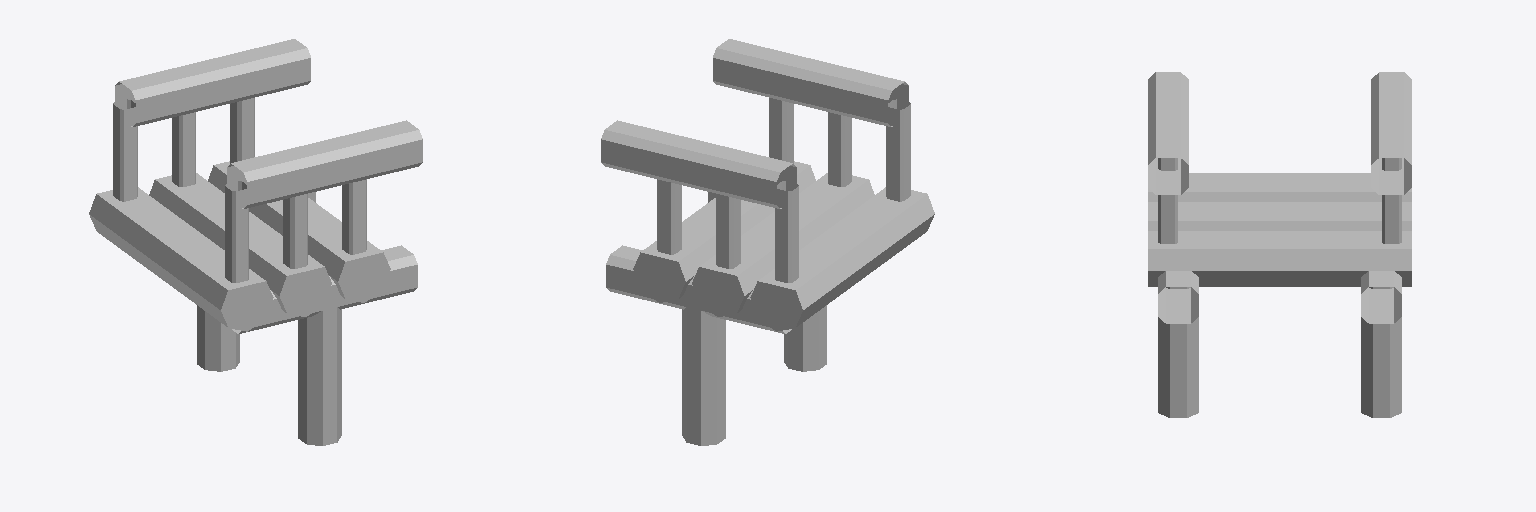
Rendered from Track_Bridge_Flat_Supported.obj.
3 renders of one model, left to right at view 1: azimuth 30°, elevation 25°; view 2: azimuth 150°, elevation 25°; view 3: azimuth 270°, elevation 25°, orthographic.
Visible parts, largest first — view 1: Bridge_Rail, Bridge_Rail_Support, Log_Plank_Top, Log_Plank_Bark, Bridge_Pier, Log_Plank_End, Bridge_Support_Beam; view 2: Bridge_Rail, Bridge_Rail_Support, Log_Plank_Top, Log_Plank_Bark, Bridge_Pier, Log_Plank_End, Bridge_Support_Beam; view 3: Log_Plank_Bark, Log_Plank_Top, Bridge_Rail, Bridge_Pier, Bridge_Support_Beam, Bridge_Rail_Support.
Boxes of the visible parts, <box> form: Bridge_Rail: <box>115,39,422,208</box>; Bridge_Rail_Support: <box>113,98,366,282</box>; Log_Plank_Top: <box>97,161,382,289</box>; Log_Plank_Bark: <box>89,165,344,326</box>; Bridge_Pier: <box>197,293,341,445</box>; Log_Plank_End: <box>221,252,390,331</box>; Bridge_Support_Beam: <box>232,192,417,333</box>; Bridge_Rail: <box>601,39,908,208</box>; Bridge_Rail_Support: <box>657,98,910,282</box>; Log_Plank_Top: <box>641,161,926,289</box>; Log_Plank_Bark: <box>679,165,934,326</box>; Bridge_Pier: <box>682,287,826,445</box>; Log_Plank_End: <box>633,252,802,331</box>; Bridge_Support_Beam: <box>606,192,791,333</box>; Log_Plank_Bark: <box>1148,192,1411,286</box>; Log_Plank_Top: <box>1148,173,1411,248</box>; Bridge_Rail: <box>1148,72,1411,194</box>; Bridge_Pier: <box>1158,287,1401,417</box>; Bridge_Support_Beam: <box>1158,271,1401,323</box>; Bridge_Rail_Support: <box>1158,158,1401,243</box>.
Size of the model in its own units: 1.15 by 1.6 by 1.3.